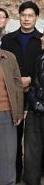boots: (0, 176, 9, 185), (0, 1, 0, 1)
